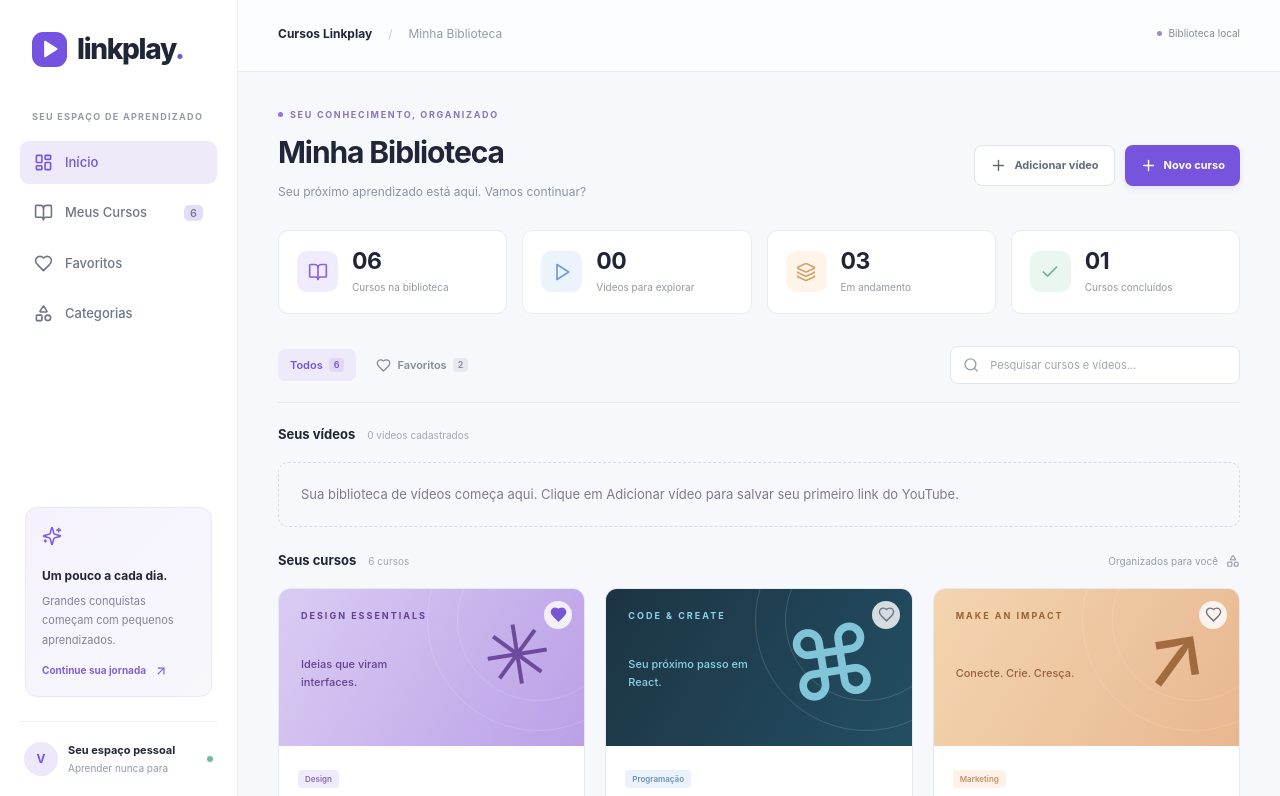
Scenario: Biblioteca Cursos Linkplay › exibe seis cursos e pesquisa por nome sem diferenciar maiúsculas
The image size is (1280, 796).
Step 1. Type "REACT" into the field labelled "Pesquisar cursos e vídeos..." → {"x": 1108, "y": 365}, box [988,356,1227,374]
(page scrolled)
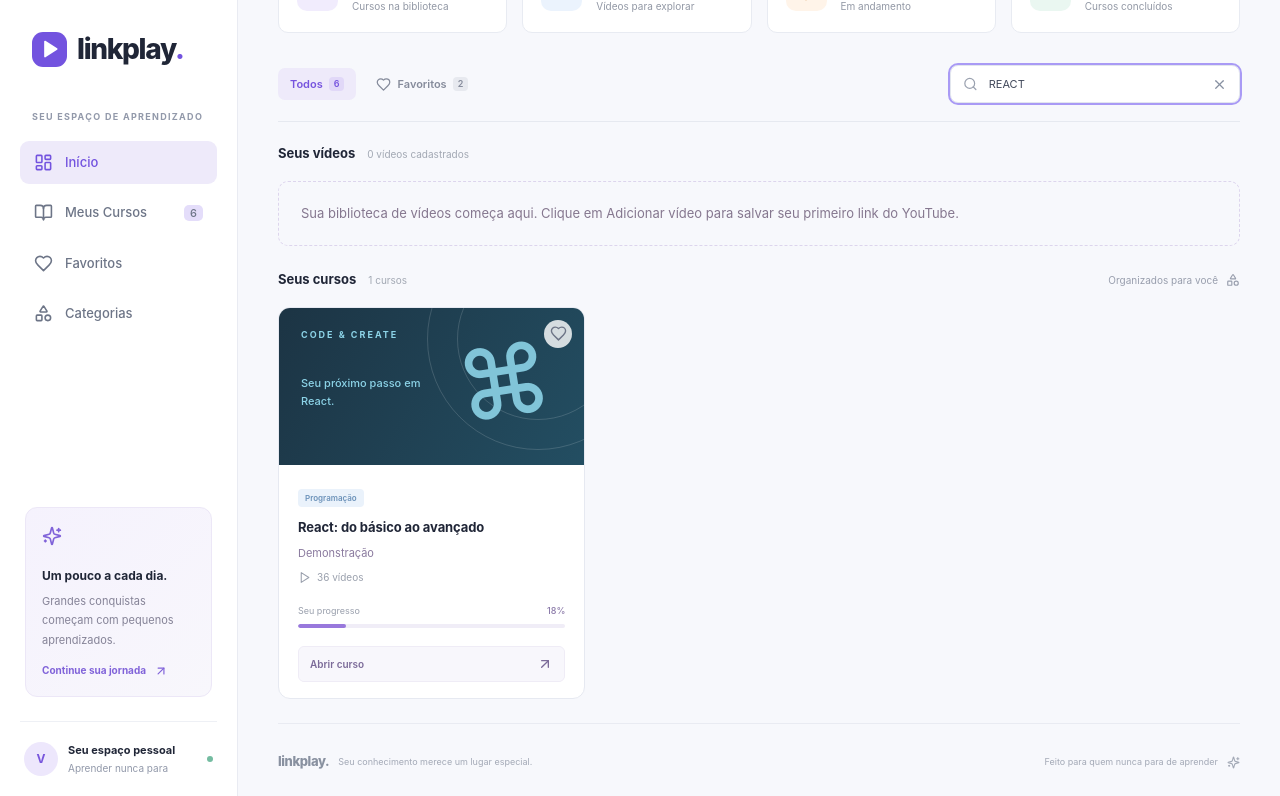
Expected: the heading "React: do básico ao avançado" is shown, [298,519,484,535]
Expected: the number of buttons "Abrir curso" is 1, [298,646,565,682]
